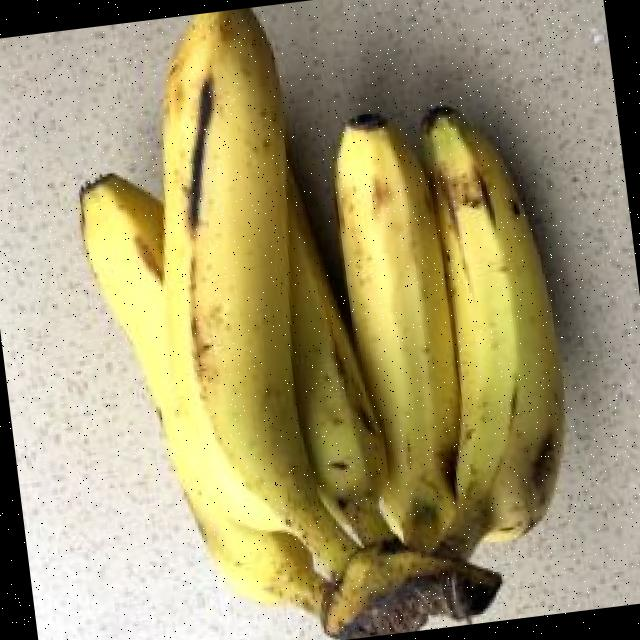banana: (162, 7, 355, 575), (79, 174, 327, 610), (420, 108, 563, 555), (334, 115, 458, 549), (287, 173, 393, 545)
